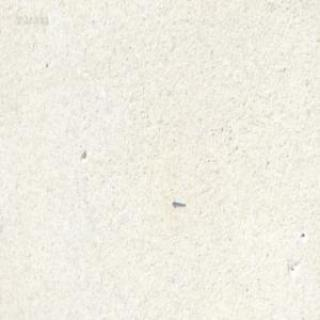Nailtrack_idkeyframe: (170, 196, 184, 206)
